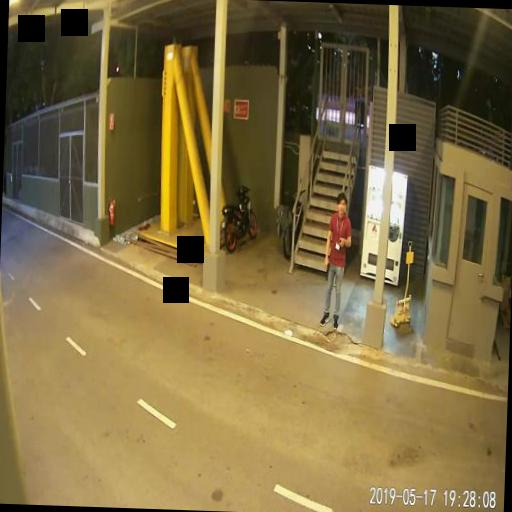Handgun: (321, 258, 329, 278)
